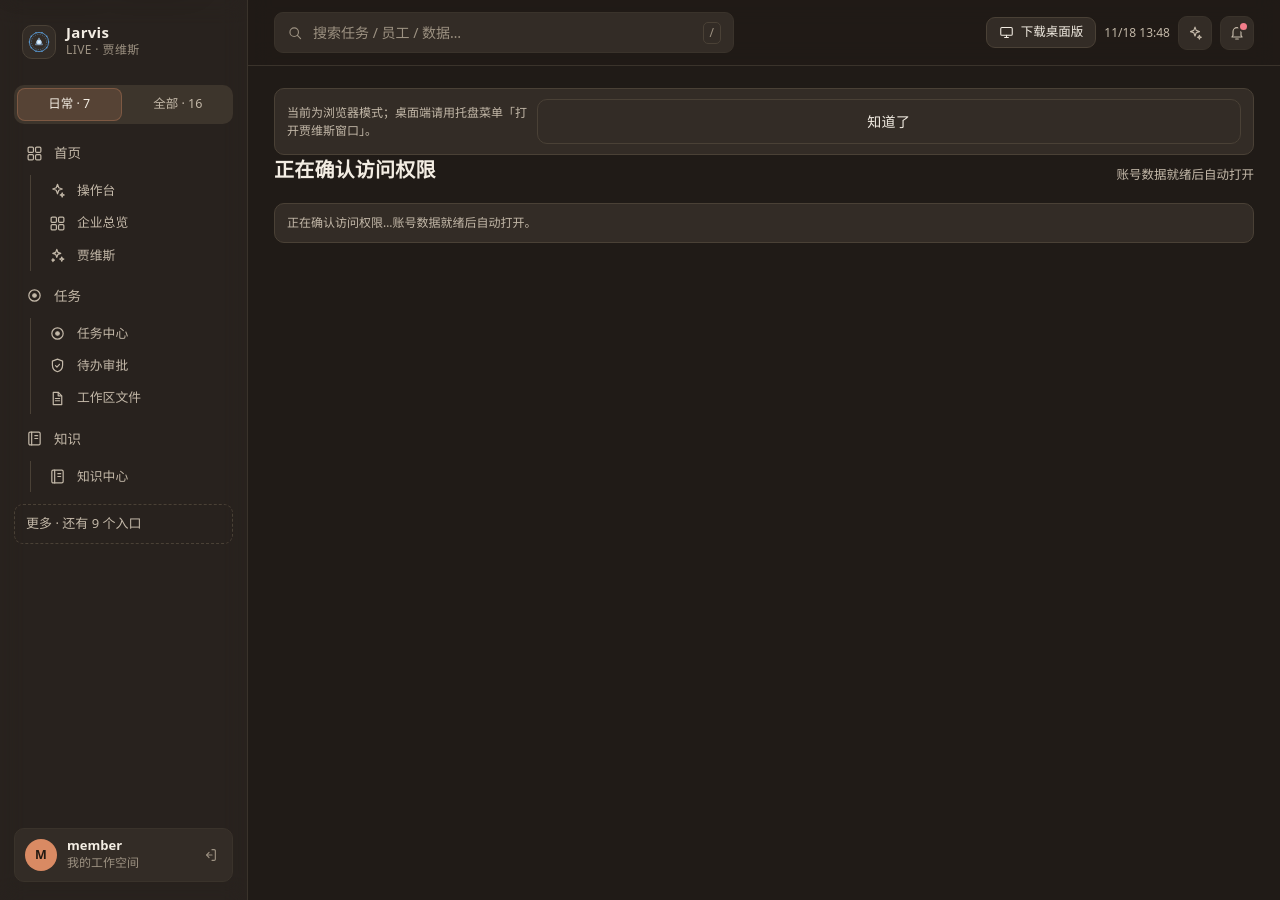
Scenario: ?mode=web：浏览器模式标识 › 带 ?mode=web：标题有后缀，常驻提示可见且可关闭
Expected: the message with test id "browser-mode-notice" shows "当前为浏览器模式", [287,104,527,138]
Click the button "知道了" at (889, 122), box [536,99,1241,144]
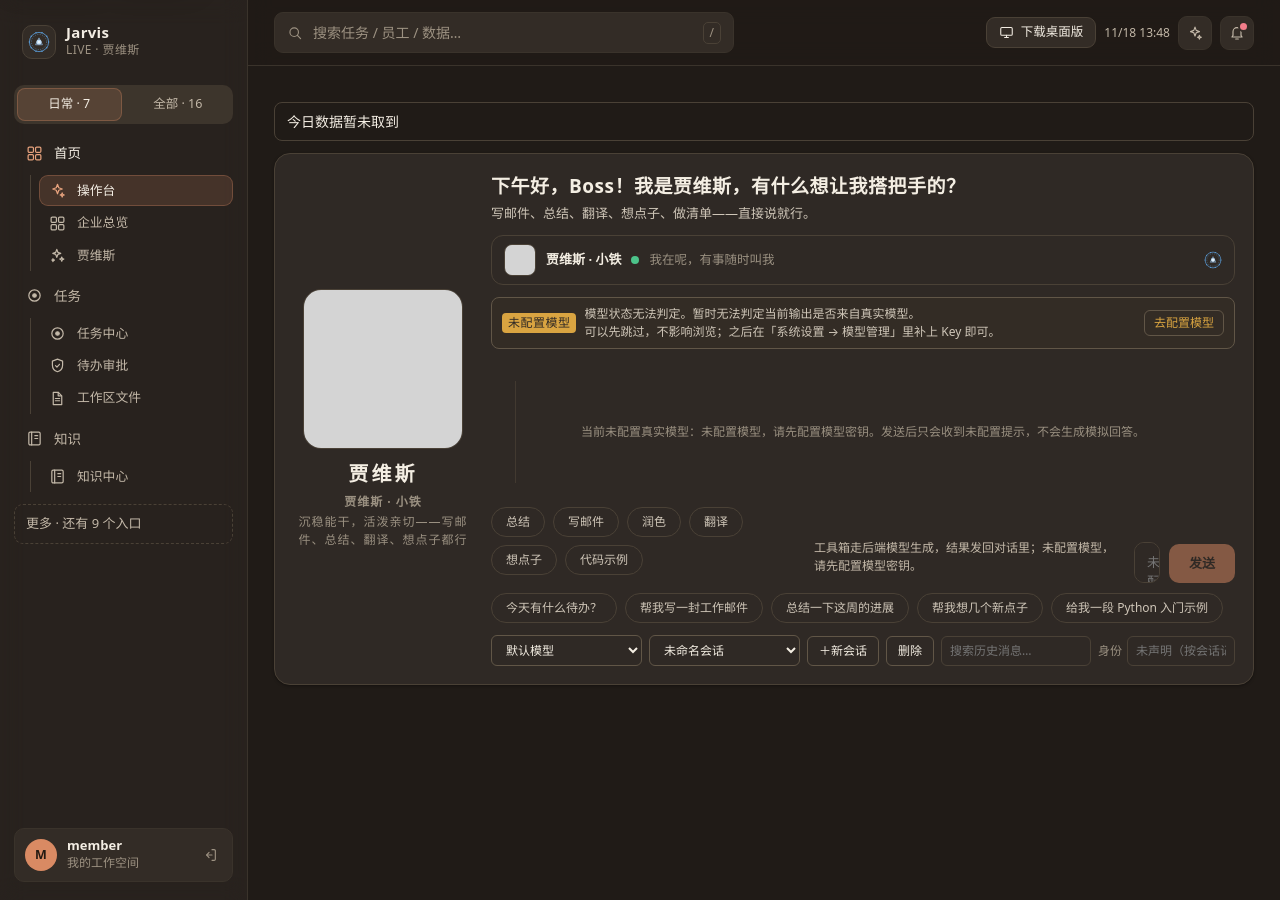
Now the message with test id "browser-mode-notice" is gone
